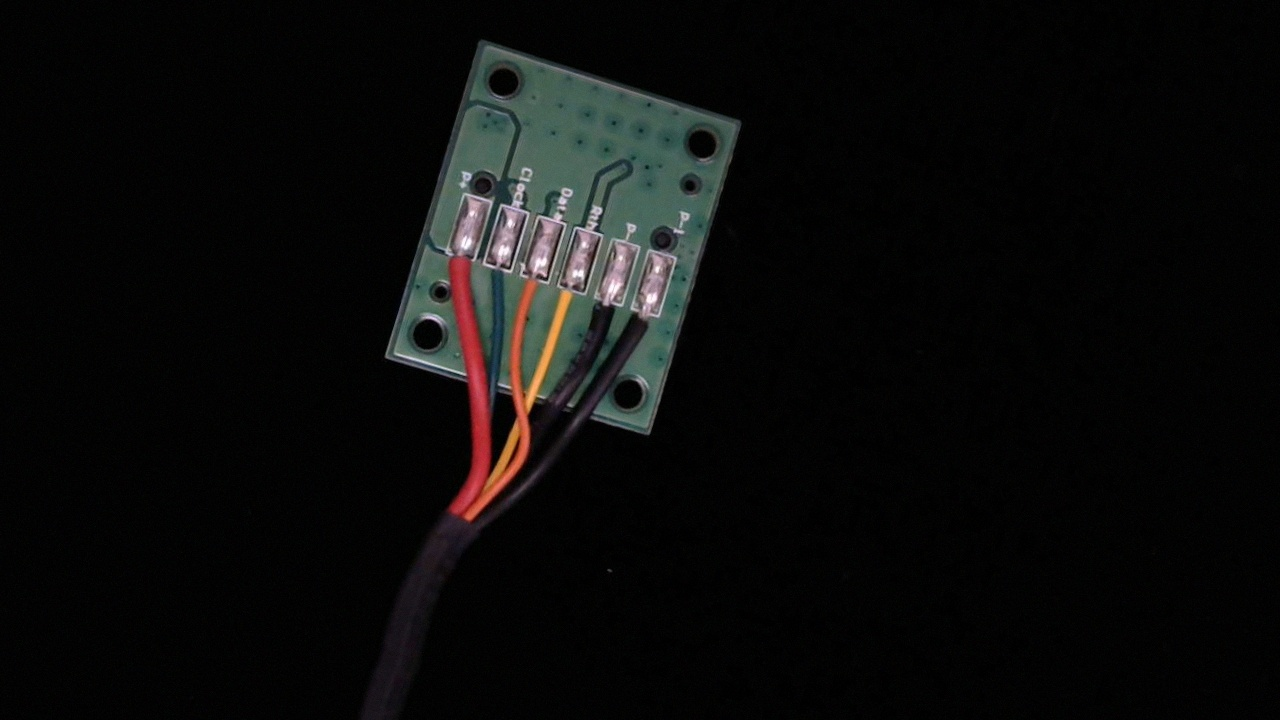Black: (576, 283, 628, 355)
Black1: (618, 296, 665, 358)
Green: (472, 247, 521, 312)
Orange: (505, 257, 555, 325)
Red: (431, 240, 481, 306)
Yellow: (540, 272, 589, 340)
